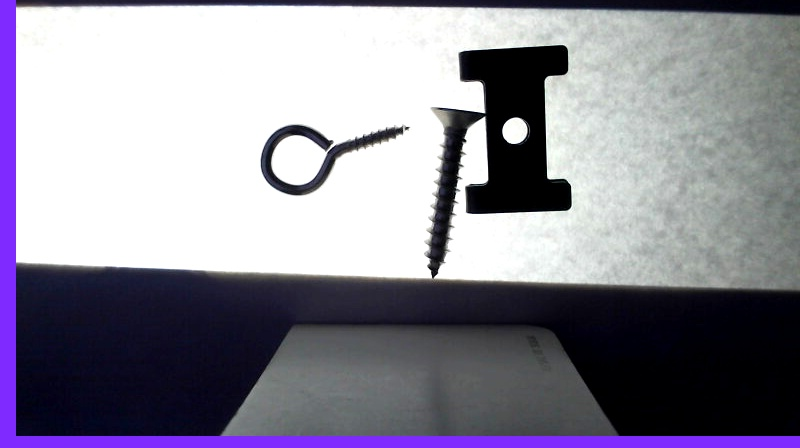O001: (256, 124, 413, 197)
O002: (457, 44, 571, 217)
S001: (422, 107, 484, 278)
